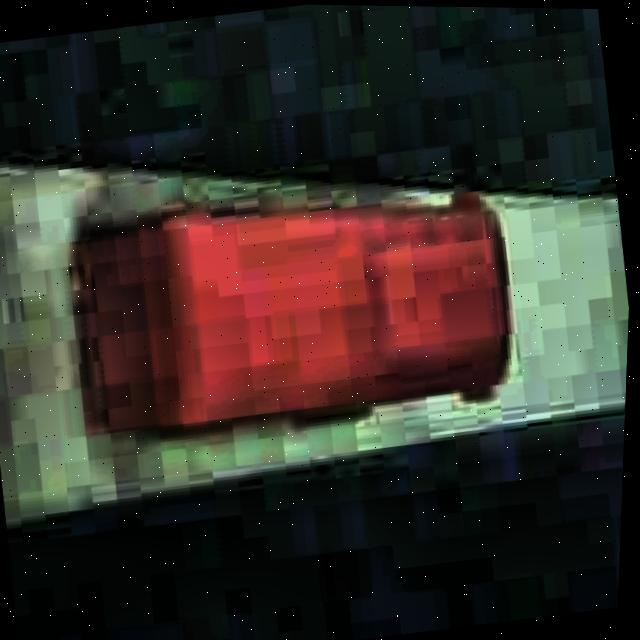bus: (49, 158, 535, 462)
